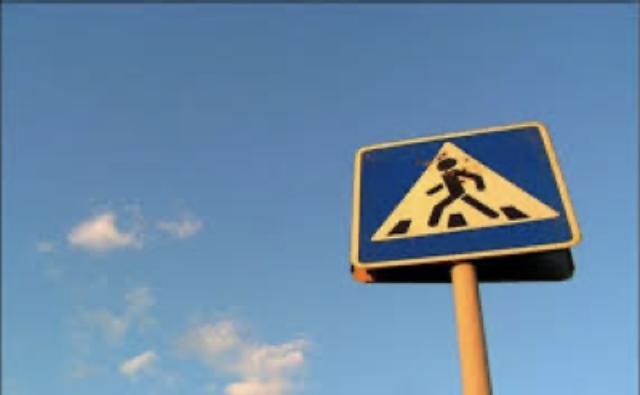crosswalk-sign: (350, 122, 582, 285)
